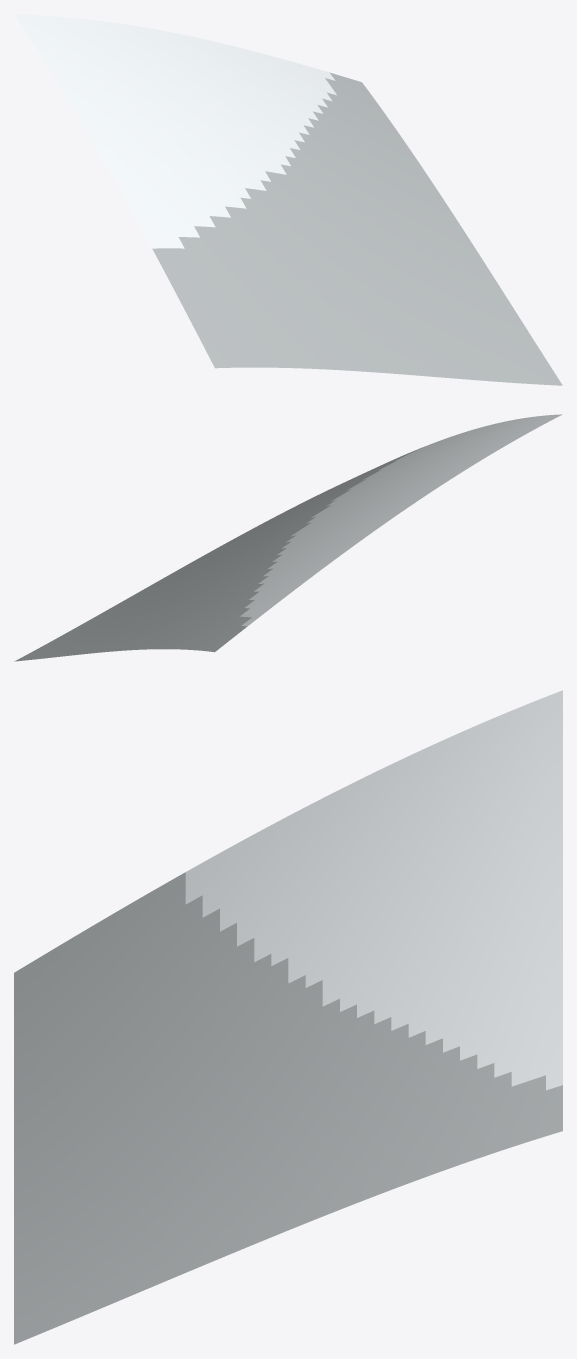
The model's file is alpine-9-8.glb.
3 renders of one model, top to bottom at view 1: azimuth 30°, elevation 25°; view 2: azimuth 210°, elevation 25°; view 3: azimuth 270°, elevation 25°, orthographic. The views are drawn at different scales.
Visible parts, largest first — view 1: alpine-9-8; view 2: alpine-9-8; view 3: alpine-9-8.
Boxes of the visible parts, bbox=[...] form: alpine-9-8: bbox=[14, 14, 562, 385]; alpine-9-8: bbox=[14, 414, 562, 661]; alpine-9-8: bbox=[14, 690, 562, 1344].
Size of the model in its own units: 256 by 217 by 256.
2 materials, 2 textured.
